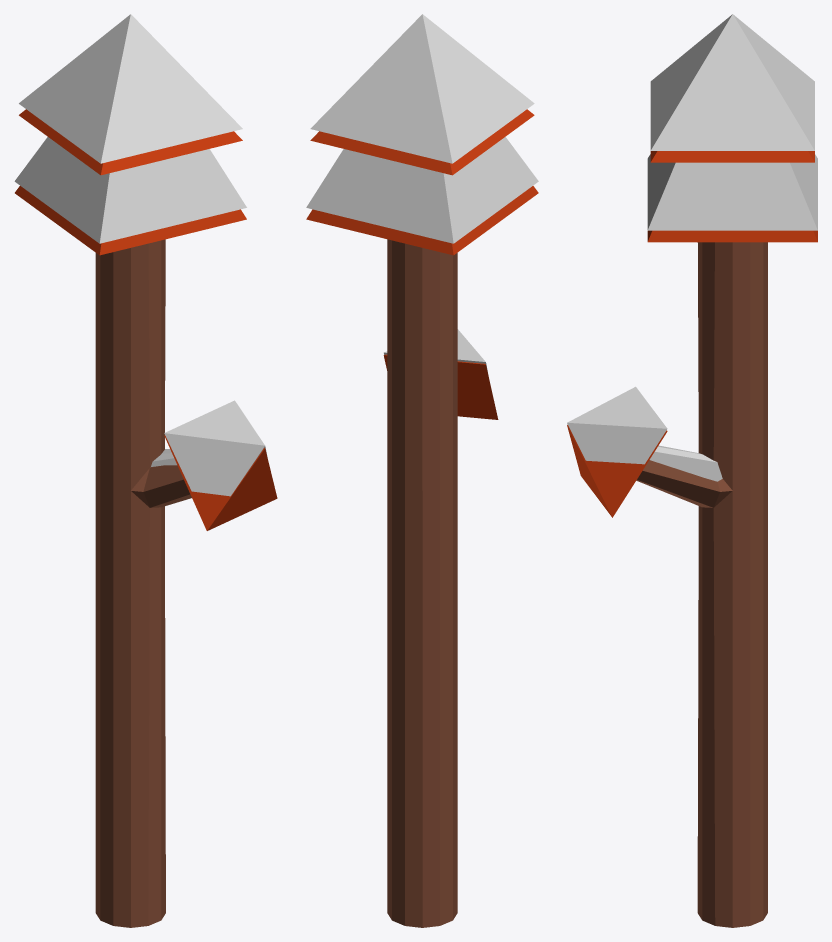
File: Tree_25_winter_red_mat.fbx
3 renders of one model, left to right at view 1: azimuth 30°, elevation 25°; view 2: azimuth 150°, elevation 25°; view 3: azimuth 270°, elevation 25°, orthographic.
Parts seen in each view (by area): view 1: Tree_25_winter_red_mat; view 2: Tree_25_winter_red_mat; view 3: Tree_25_winter_red_mat.
Boxes of the visible parts, bbox=[...] form: Tree_25_winter_red_mat: bbox=[14, 14, 277, 927]; Tree_25_winter_red_mat: bbox=[306, 14, 538, 927]; Tree_25_winter_red_mat: bbox=[567, 14, 817, 927].
Bounding box in the file's own units: 58.32 × 312 × 79.03.
